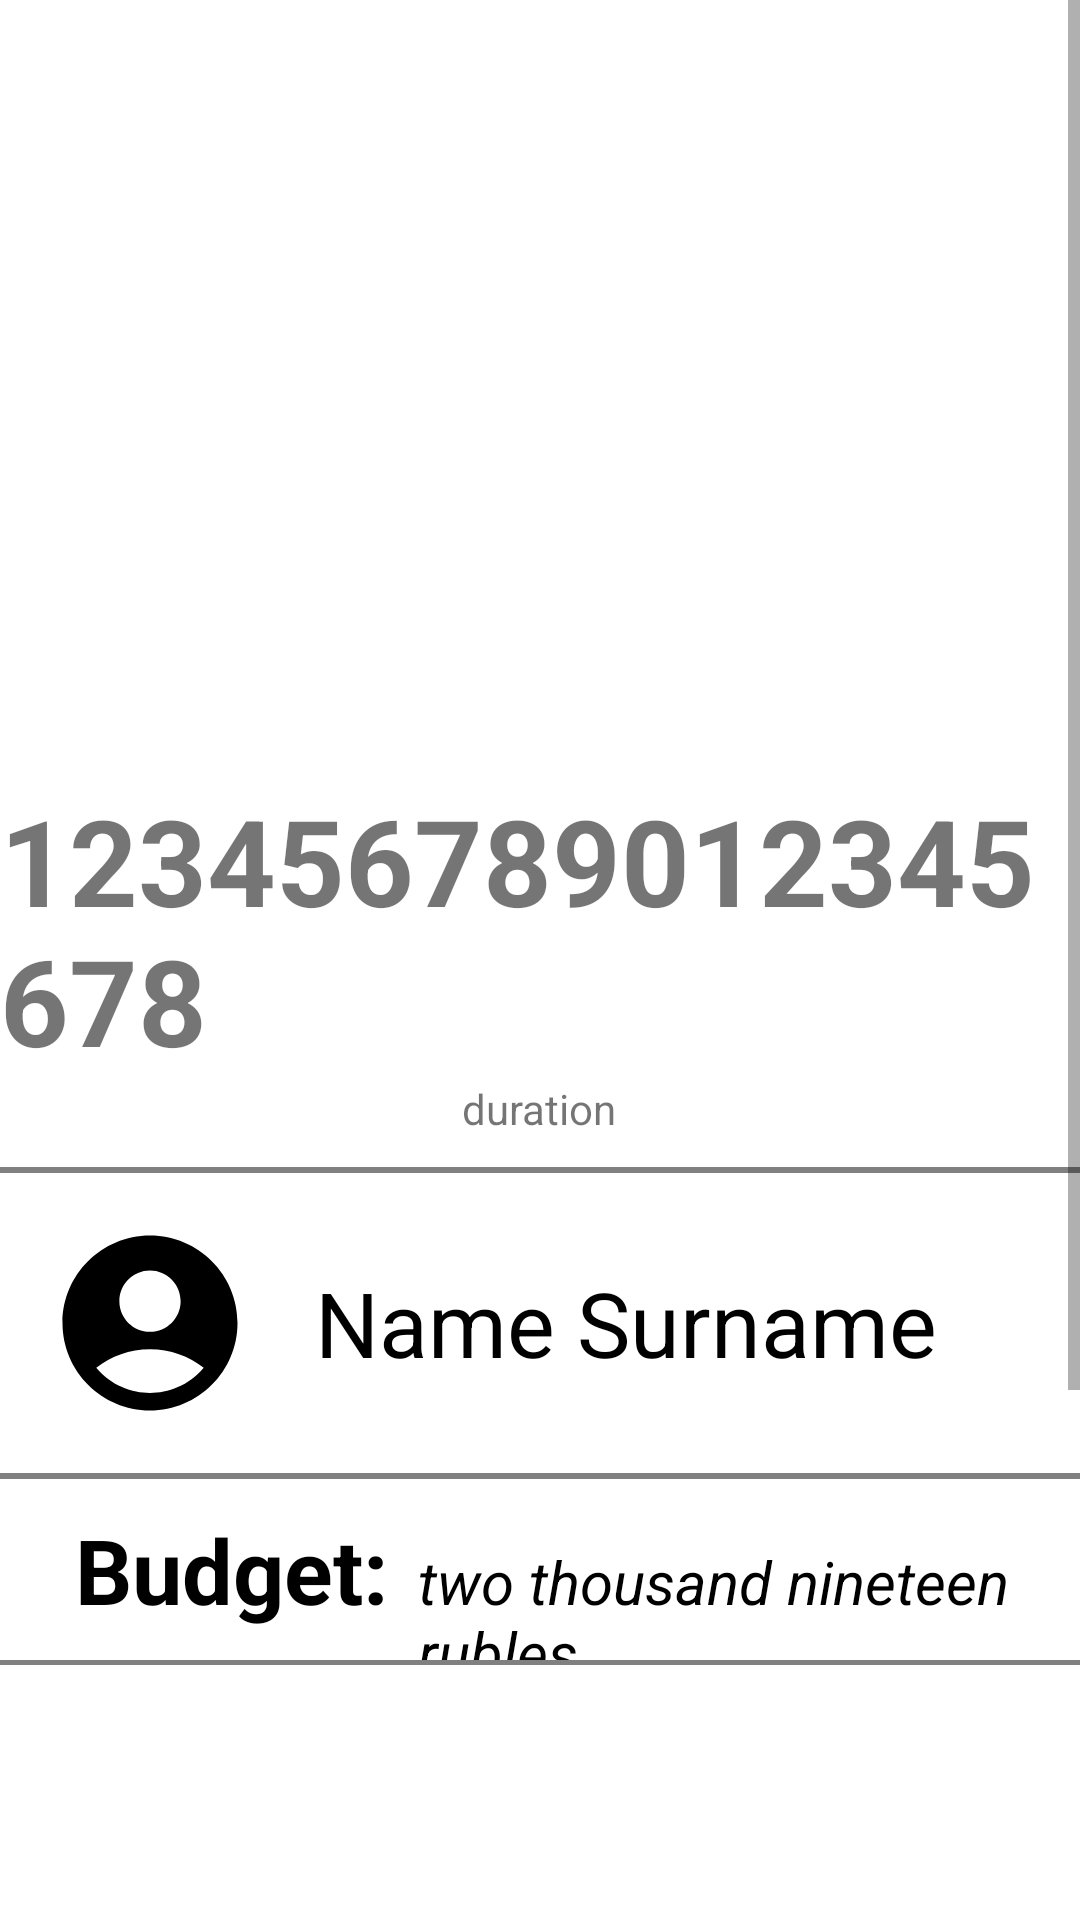

Icons on this 1080w x 1920h Android screen, each with its box as region(x1, y1, x2, y2):
account circle: region(62, 1235, 238, 1411)
